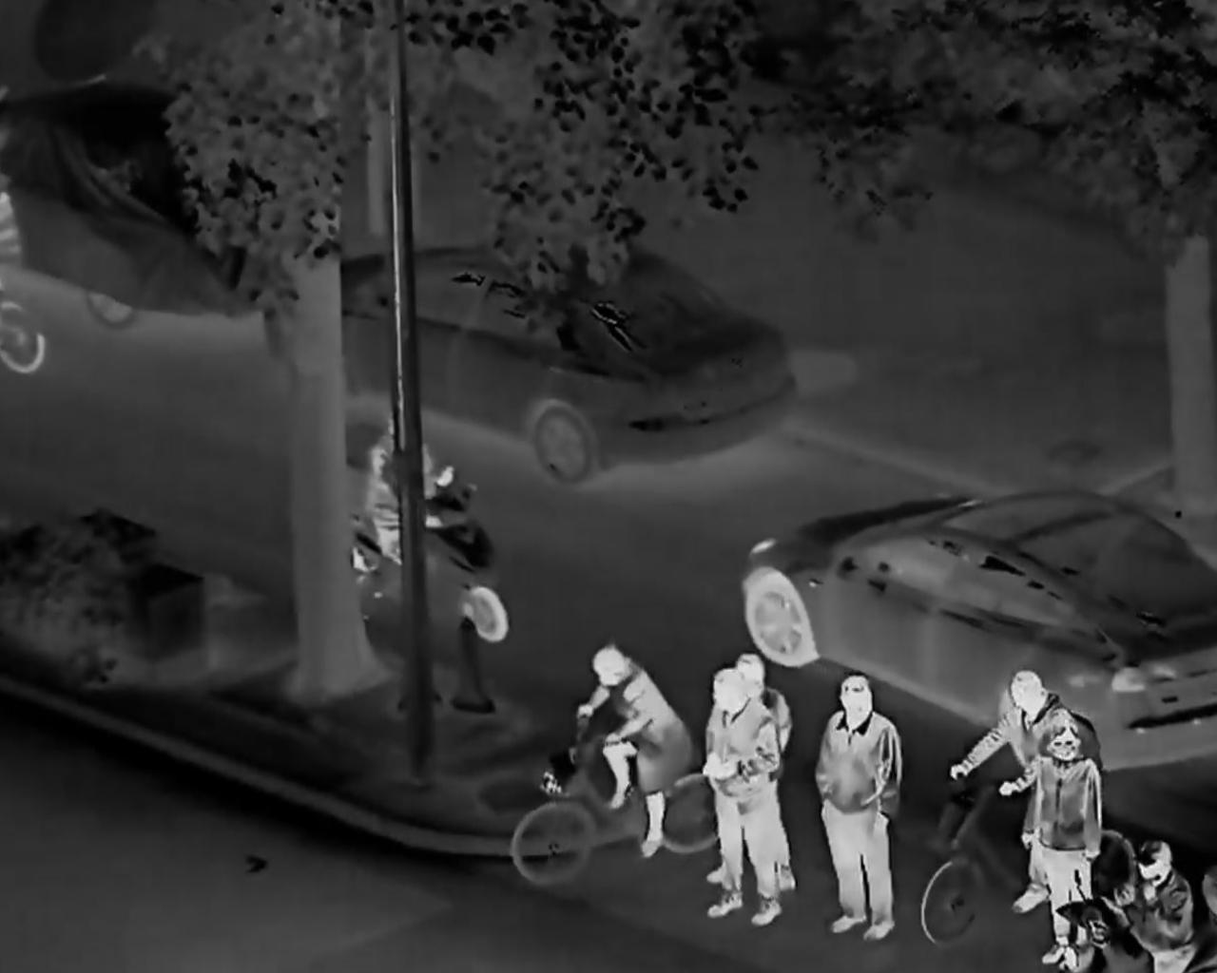person: (950, 672, 1083, 911), (574, 641, 684, 855), (816, 675, 901, 944), (709, 652, 798, 890), (699, 670, 777, 924), (1027, 720, 1105, 972), (362, 412, 459, 597), (1114, 840, 1196, 973)
